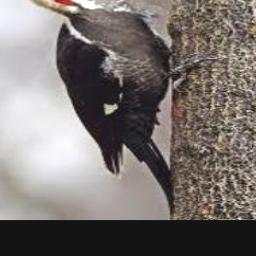Woodpecker: (4, 0, 217, 218)
